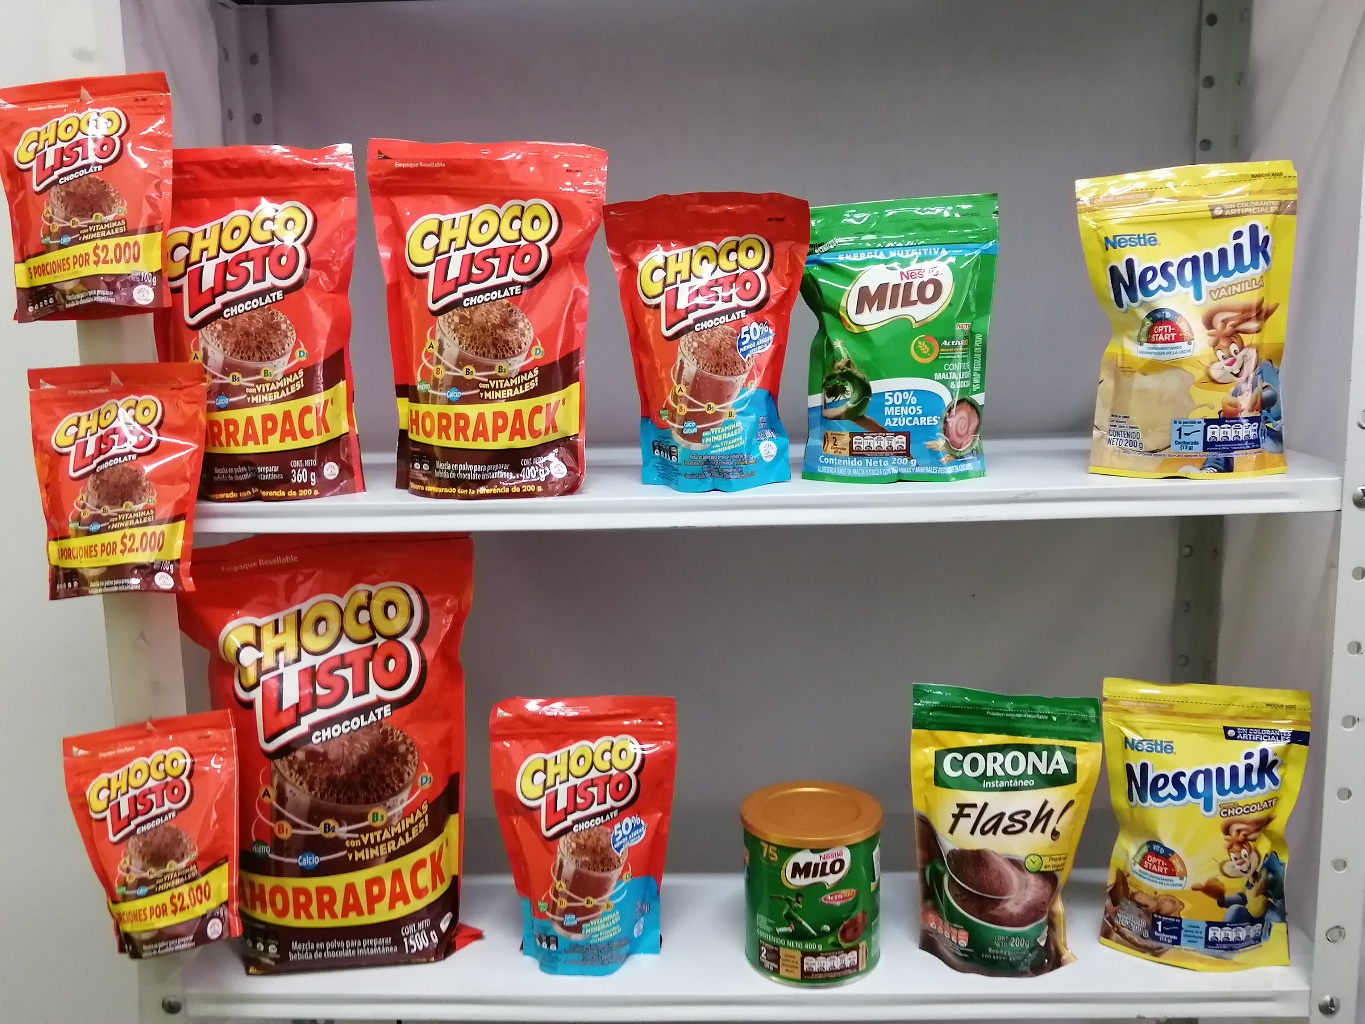COL0170103DYP1,500: (157, 522, 504, 980)
COL0170103DYP10000: (8, 70, 186, 335)
COL0170103DYP36000: (136, 137, 376, 518)
COL0170103DYP40000: (362, 127, 614, 508)
COL0170104DYP20000: (468, 682, 695, 984)
COL0170203LAT40000: (724, 766, 899, 991)
COL0170205DYP20000: (786, 172, 1008, 497)
COL0170303DYP20000: (1086, 675, 1322, 972)
COL0170306DYP20000: (1061, 151, 1312, 477)
